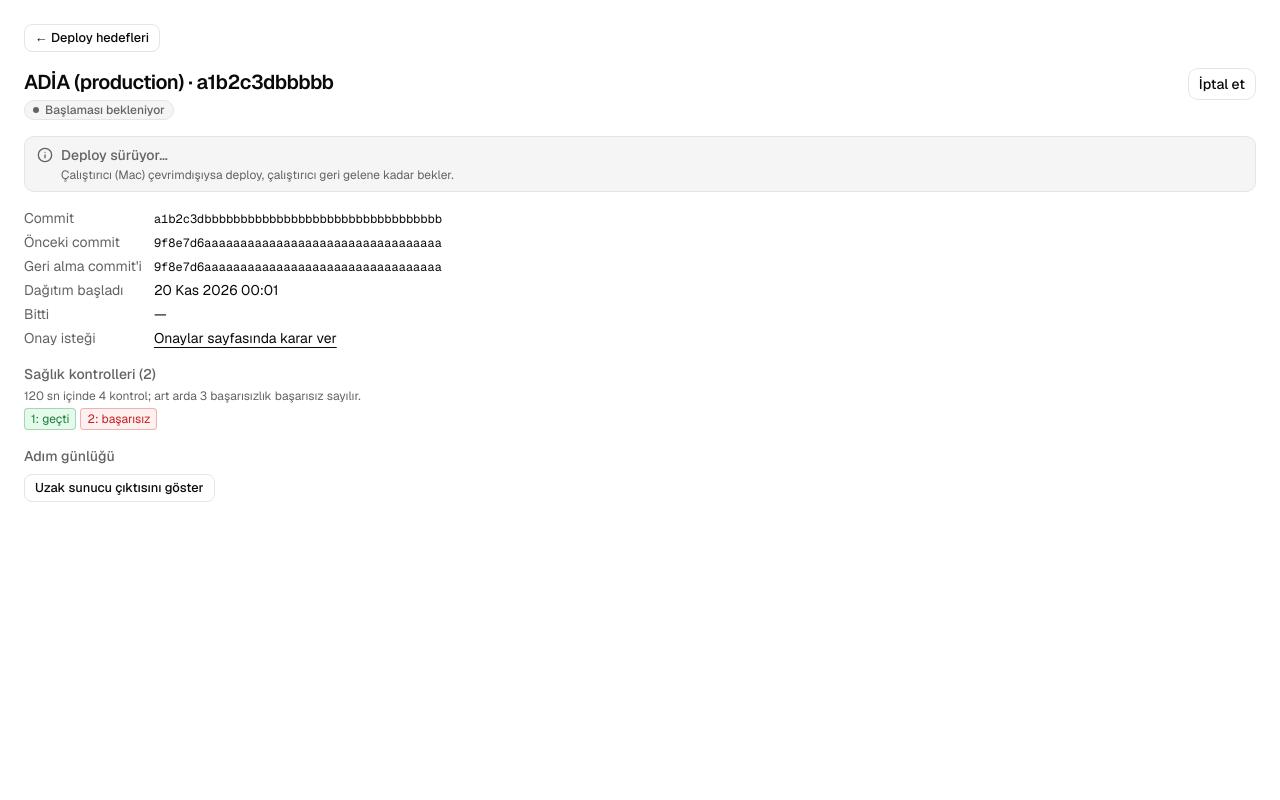
DeployRunDetail › a run before the deploy verb can be cancelled, only from the confirmation
Click the button "İptal et" at (1222, 84), box [1188,68,1256,100]
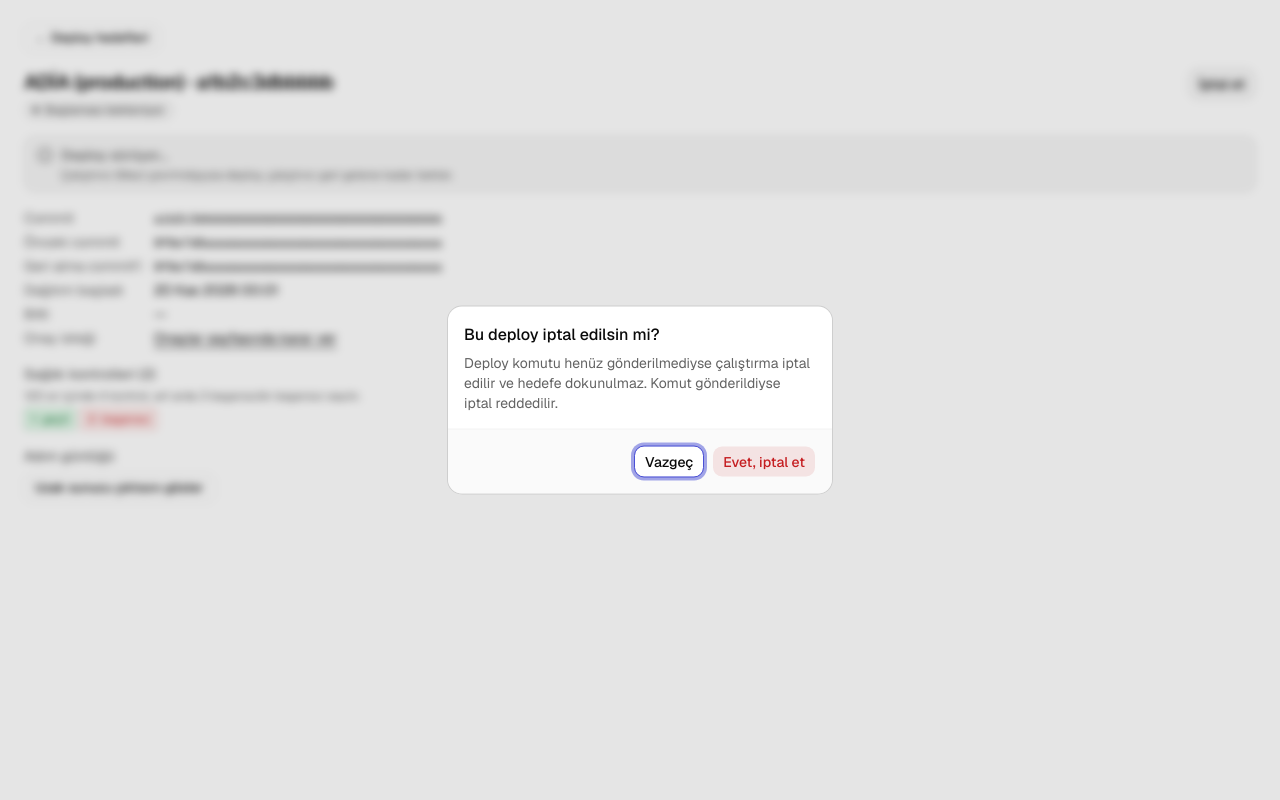
Click the button "Evet, iptal et" at (764, 462), box [712,446,816,478]
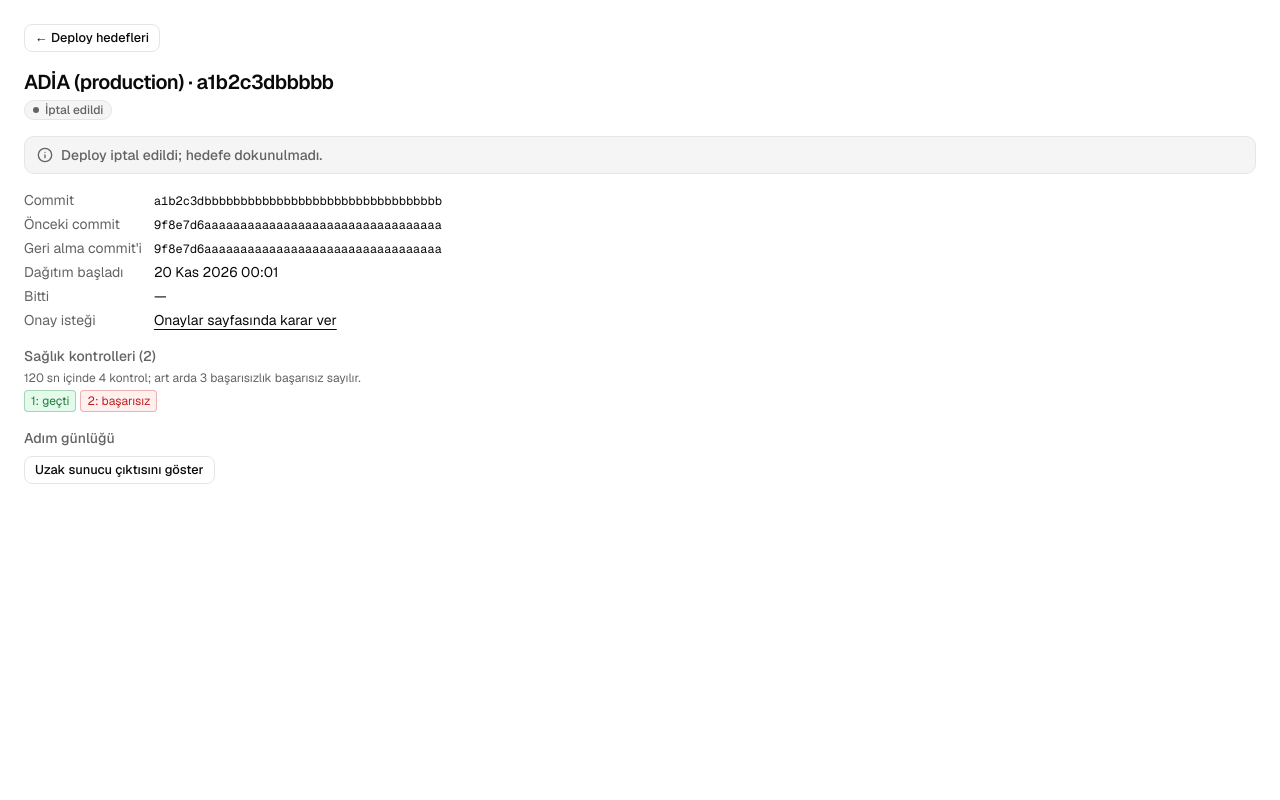
Expected: the message "Deploy iptal edildi; hedefe dokunulmadı." is shown, [24,136,1256,174]
